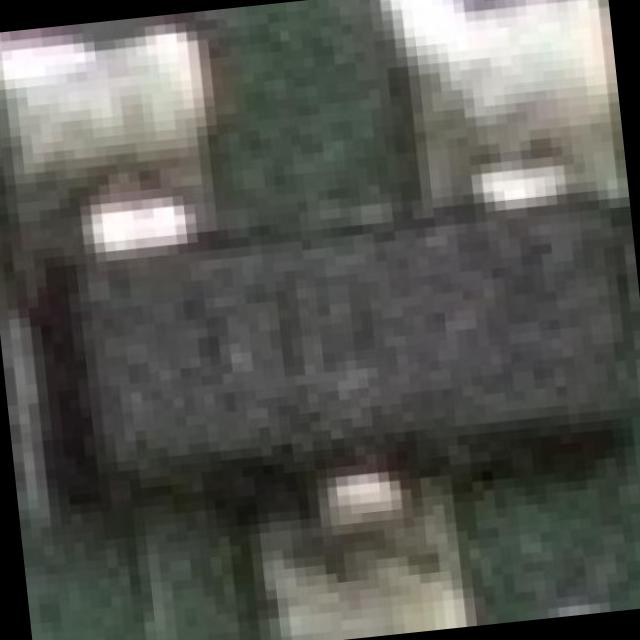transistor: (51, 173, 640, 569)
